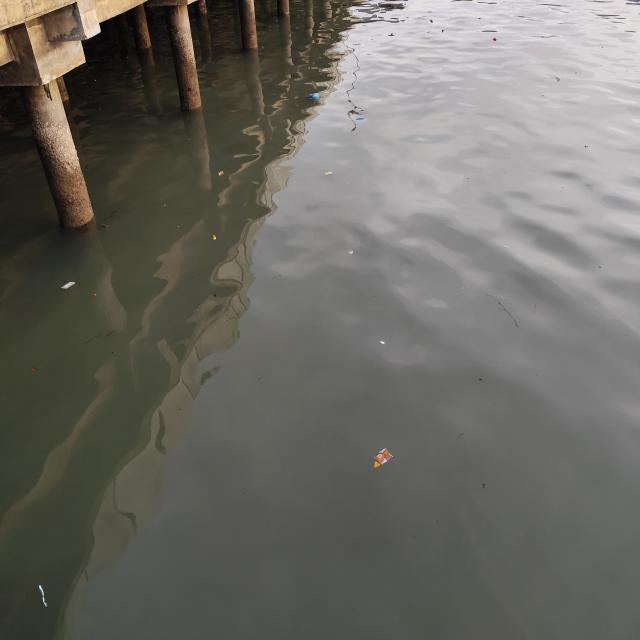Bungkus Makanan: (373, 448, 397, 469)
Kantong Plastik: (307, 90, 322, 108)
